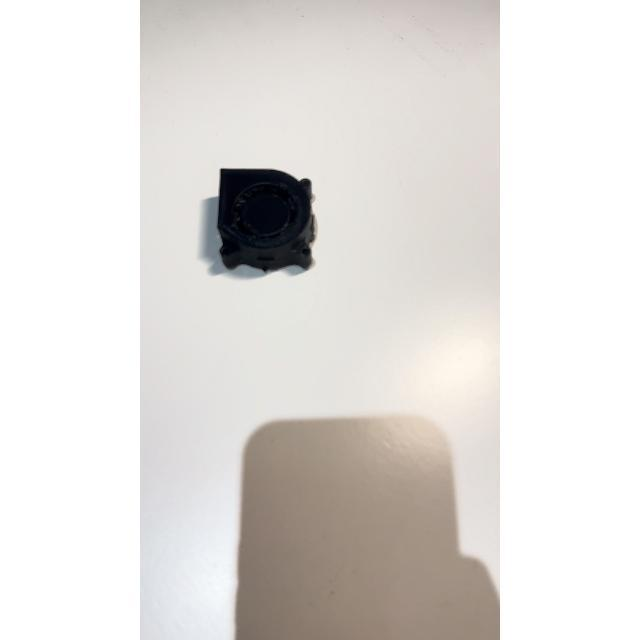Pieza3: (202, 154, 332, 288)
